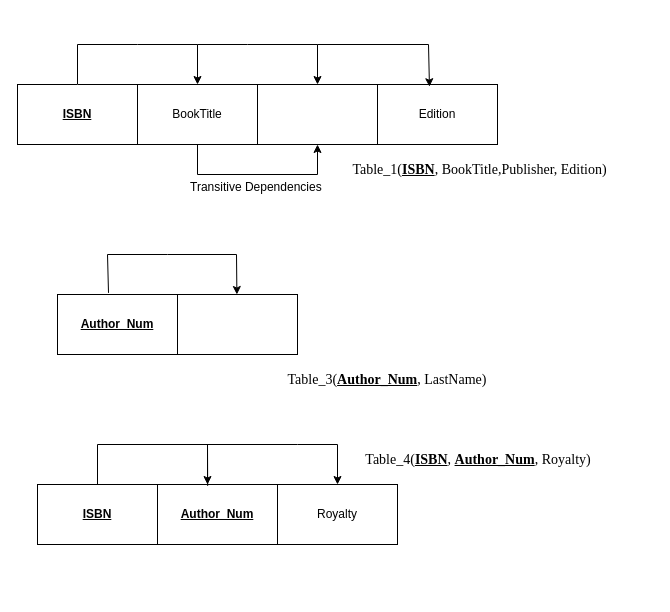
Some shapes in this 670 by 612 pixel diagram are drawn without their labels. Here are the shapes that lost their labels. From the top down, the centre of each, then its label:
At point (317, 114): "Publisher".
At point (237, 324): "LastName".
